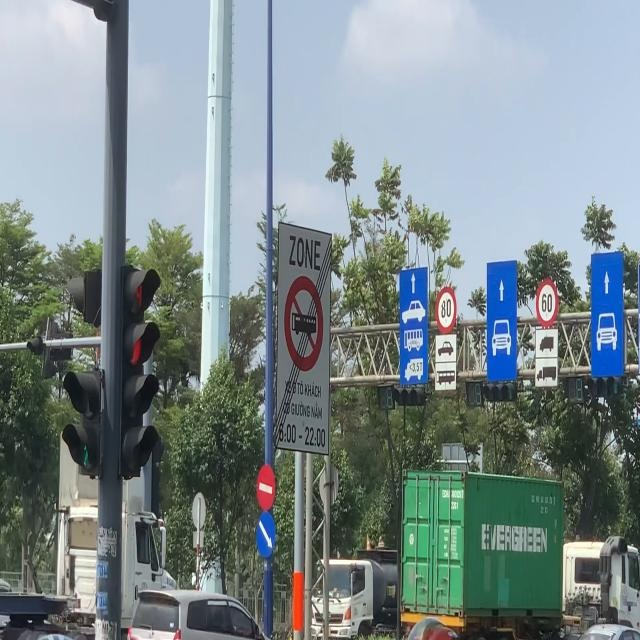bien_cam: (536, 278, 558, 328), (435, 286, 457, 335), (256, 510, 276, 559), (256, 464, 276, 511)
